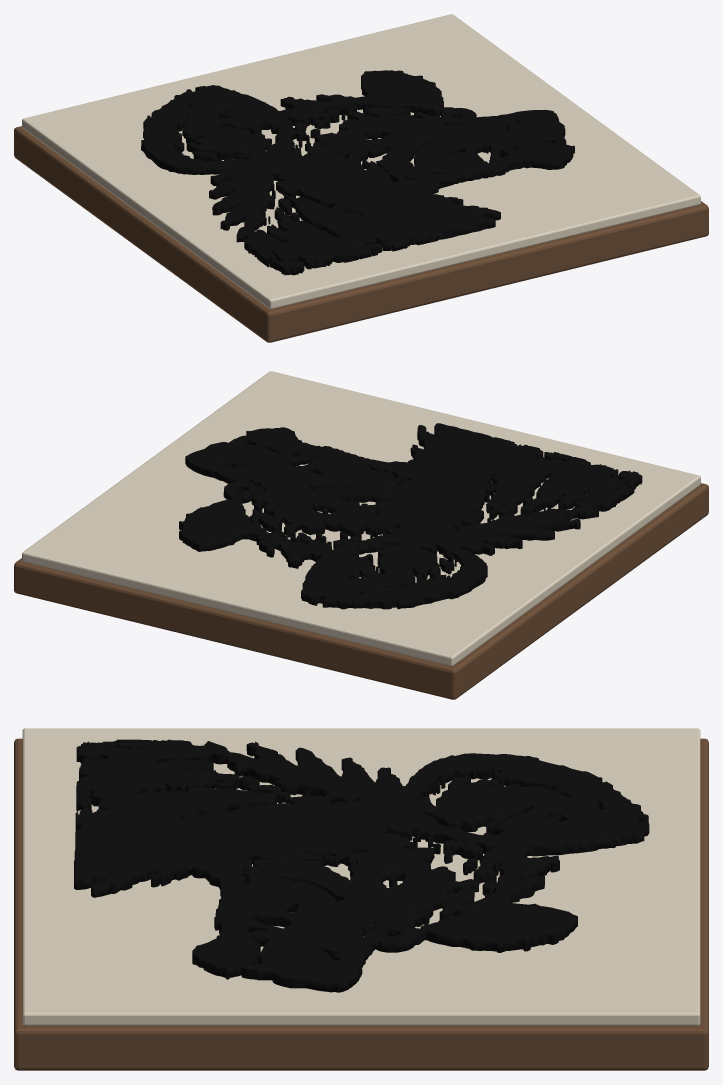
The model's file is hyena-plaque.glb.
3 renders of one model, top to bottom at view 1: azimuth 30°, elevation 25°; view 2: azimuth 150°, elevation 25°; view 3: azimuth 270°, elevation 25°, orthographic. The views are drawn at different scales.
Visible parts, largest first — view 1: Lino, Ink, Wood; view 2: Lino, Ink, Wood; view 3: Lino, Ink, Wood.
Boxes of the visible parts, x1,y1,x2,y2 form: Lino: (22,14,700,309); Ink: (141,70,574,275); Wood: (14,126,708,342); Lino: (22,371,700,666); Ink: (179,423,642,609); Wood: (14,483,708,699); Lino: (22,728,700,1025); Ink: (74,739,649,992); Wood: (14,738,708,1070).
Bounding box in the file's own units: 2.41 × 0.2472 × 2.41.
